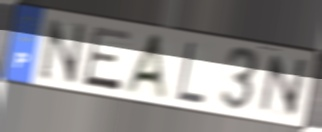3: (218, 44, 261, 114)
A: (121, 32, 170, 104)
E: (80, 24, 134, 94)
L: (174, 38, 206, 107)
N: (256, 53, 311, 120), (38, 16, 89, 86)
